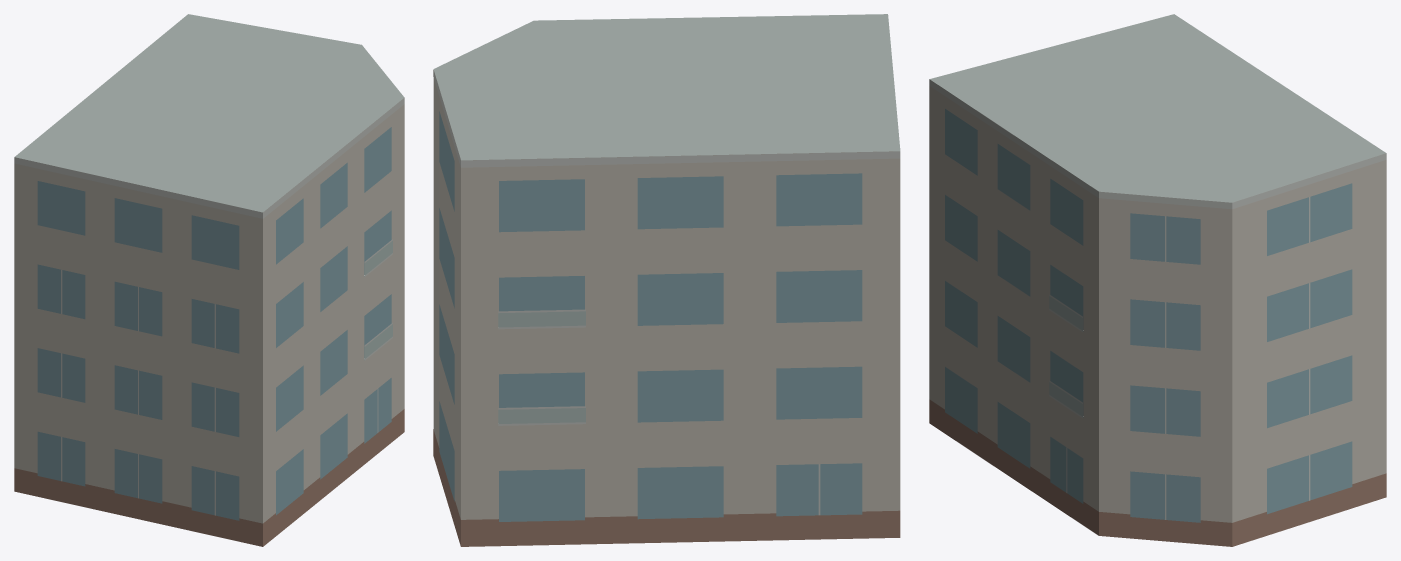
Rendered from survey-upis-32890095.glb.
3 views of the same model, side by side, from view 1: azimuth 30°, elevation 25°; view 2: azimuth 150°, elevation 25°; view 3: azimuth 270°, elevation 25° (orthographic). The views are drawn at different scales.
Visible parts, largest first — view 1: survey-upis-32890095.tmp; view 2: survey-upis-32890095.tmp; view 3: survey-upis-32890095.tmp.
Boxes of the visible parts, bbox=[...] form: survey-upis-32890095.tmp: bbox=[14, 14, 404, 546]; survey-upis-32890095.tmp: bbox=[433, 14, 900, 546]; survey-upis-32890095.tmp: bbox=[929, 14, 1386, 546].
Size of the model in its own units: 15.06 by 12.8 by 15.42.
